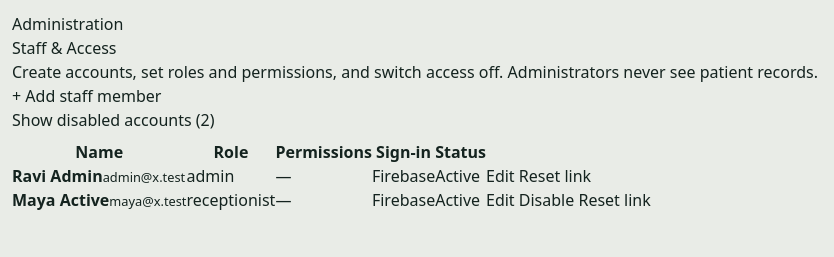
Staff list views › "Show disabled" shows ONLY the disabled accounts, with Enable and Delete, and a way back
This screenshot has width=834, height=257.
Expected: the text "Ravi Admin" is shown, [12,165,103,187]
Click the button "Show disabled accounts (2)": {"x": 113, "y": 120} [12,108,214,132]
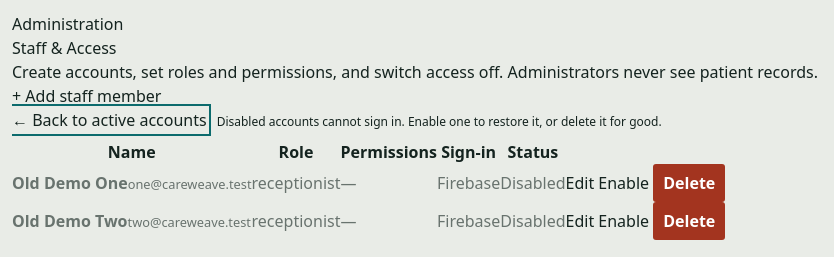
Result: the text "Old Demo One" is shown at [12,172,128,194]
Result: the text "Old Demo Two" is shown at [12,210,128,232]
Result: the text "Maya Active" is gone
Click the button "← Back to active accounts": {"x": 109, "y": 120} [12,108,207,132]
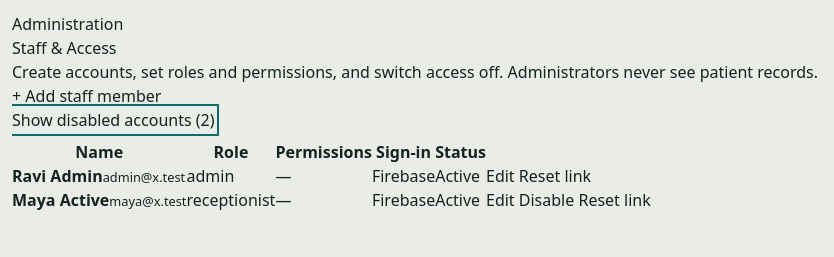
Result: the text "Maya Active" is shown at [12,189,109,211]
Result: the text "Old Demo One" is gone
